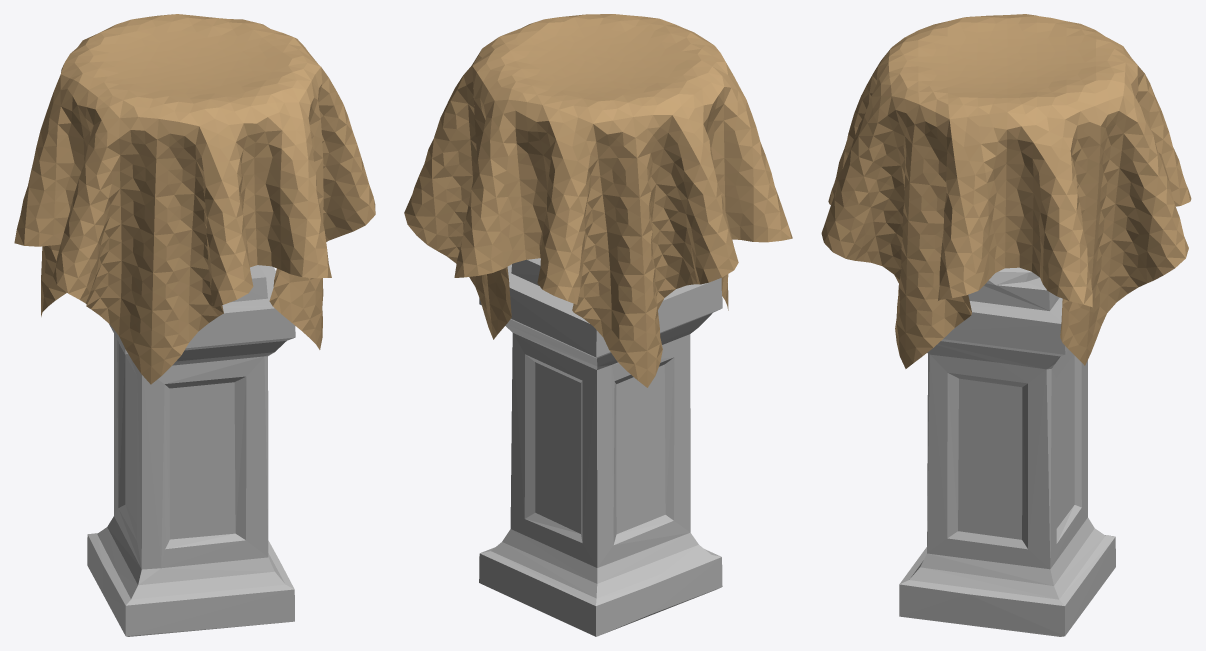
Rendered from level_1.glb.
The picture shows the model from 3 angles, left to right: view 1: azimuth 30°, elevation 25°; view 2: azimuth 150°, elevation 25°; view 3: azimuth 270°, elevation 25°; orthographic projection.
Parts seen in each view (by area): view 1: world, object.obj; view 2: world, object.obj; view 3: world, object.obj.
Part boxes in pixels (bbox=[...]): world: bbox=[14, 14, 375, 384]; object.obj: bbox=[87, 265, 295, 636]; world: bbox=[404, 14, 792, 387]; object.obj: bbox=[479, 258, 722, 636]; world: bbox=[821, 14, 1191, 368]; object.obj: bbox=[899, 267, 1115, 636].
Bounding box in the file's own units: 0.3058 × 0.4818 × 0.3028.
